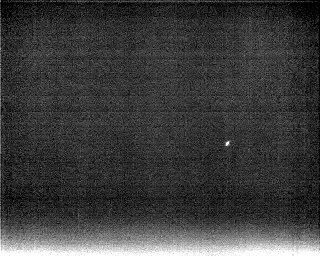BIRD: (223, 138, 233, 149)
